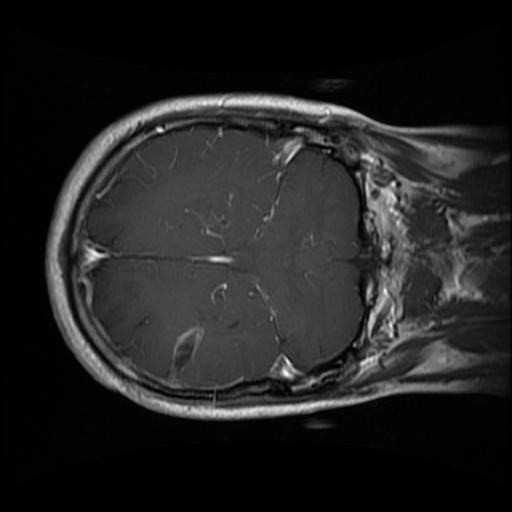glioma: (164, 323, 207, 385)
